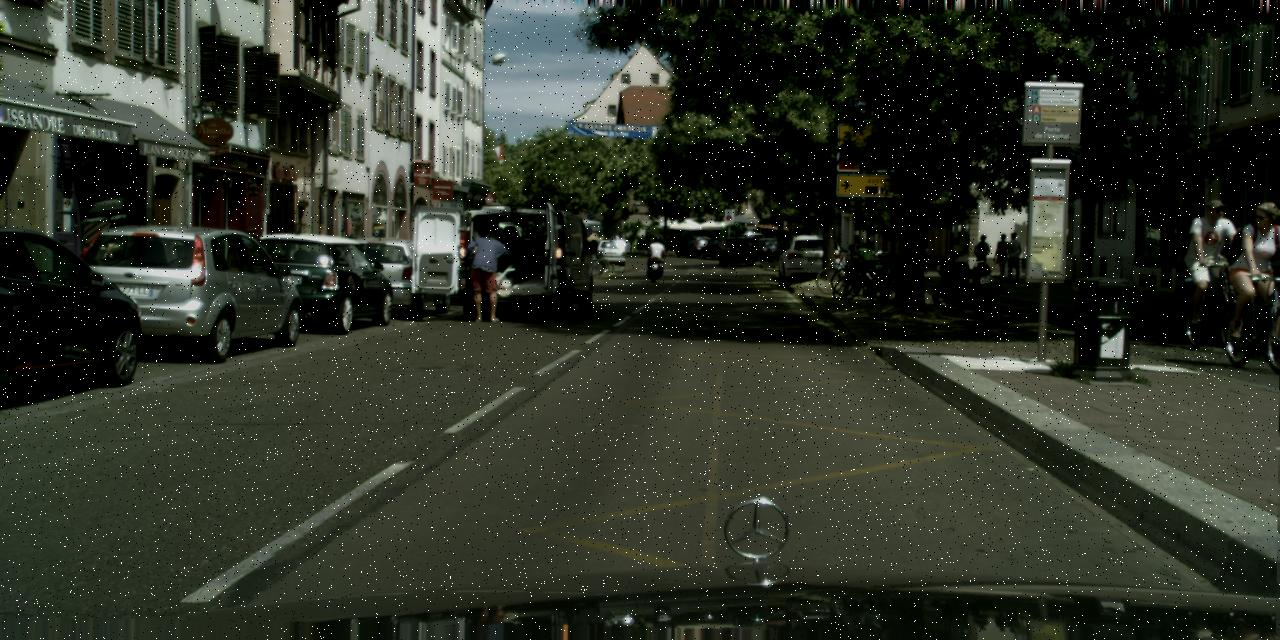ped: (1186, 200, 1239, 328), (1233, 201, 1279, 339), (470, 232, 506, 321), (992, 232, 1012, 282), (1003, 232, 1023, 282), (972, 233, 990, 277), (647, 235, 664, 278)
